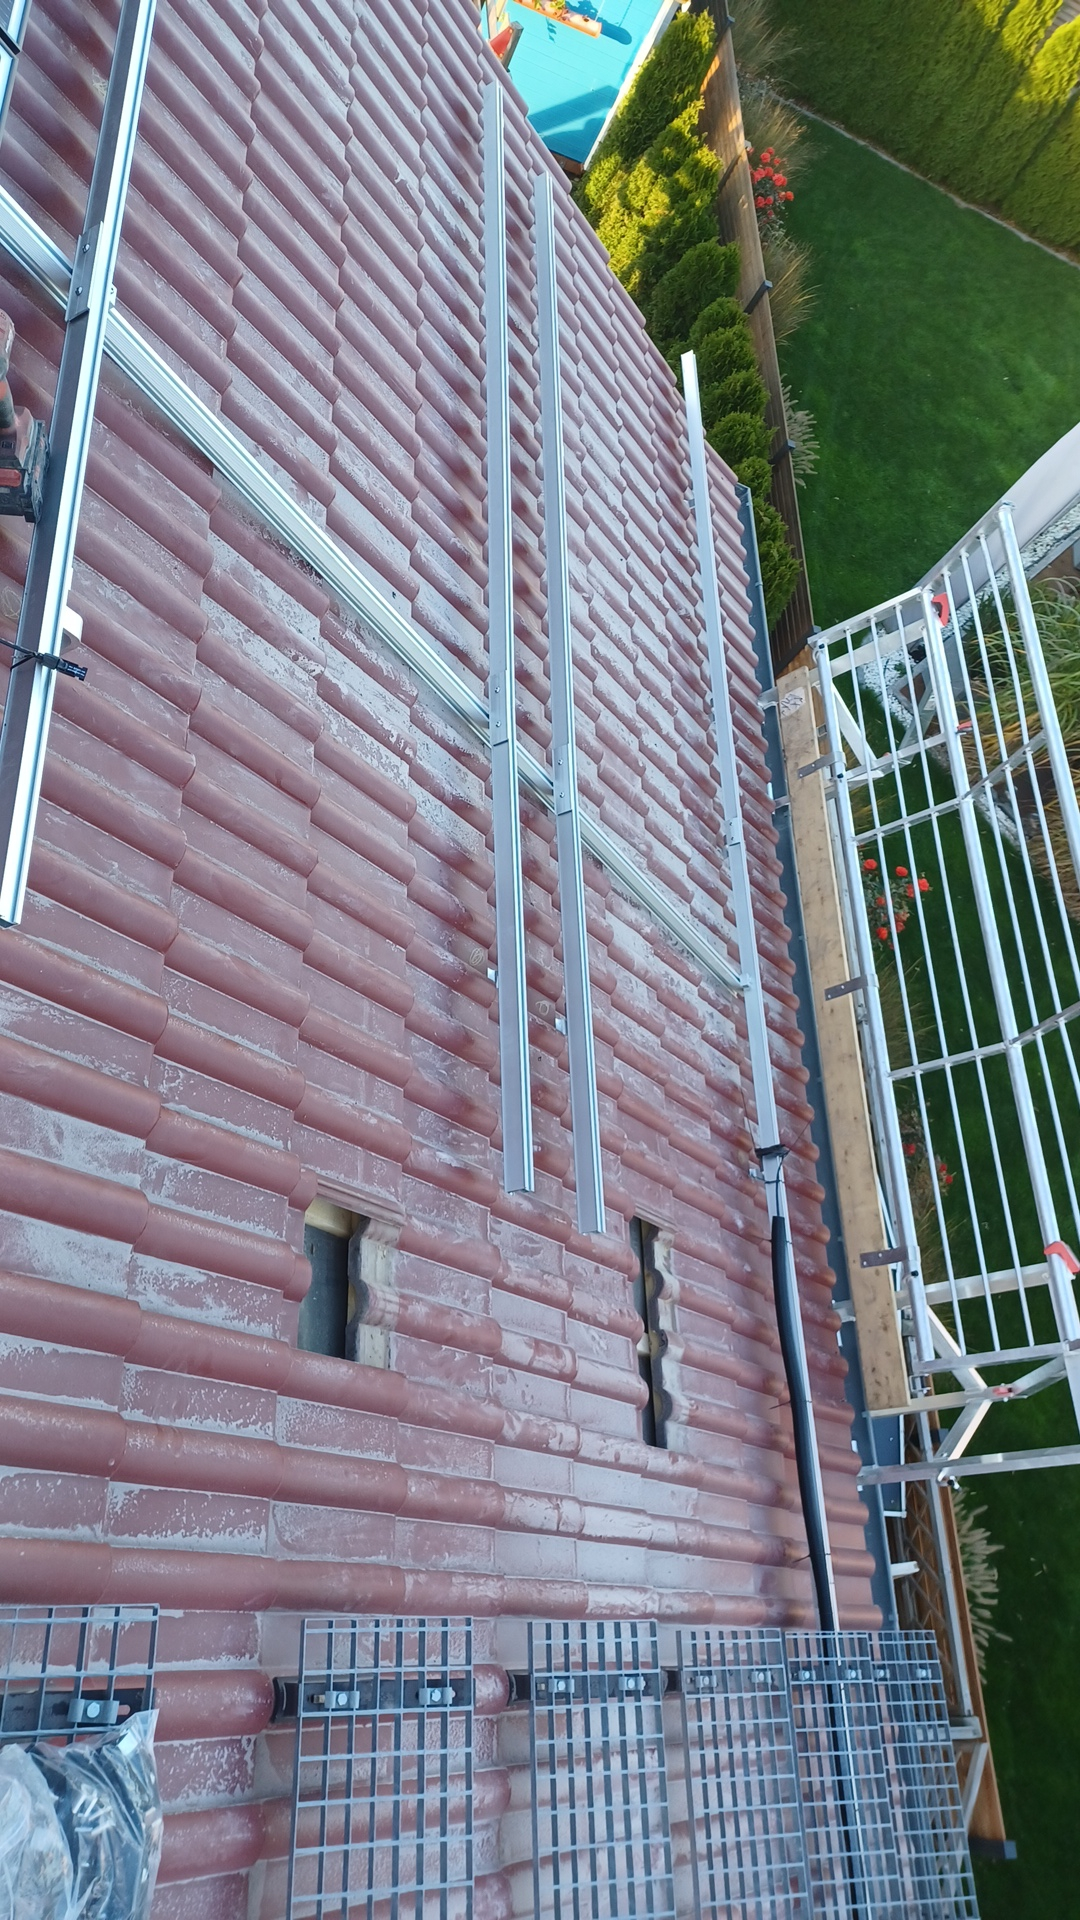hook: (61, 568, 83, 655), (683, 481, 696, 509), (717, 833, 729, 858), (487, 967, 498, 989), (705, 698, 715, 723), (555, 1017, 567, 1035), (749, 1168, 765, 1180)
